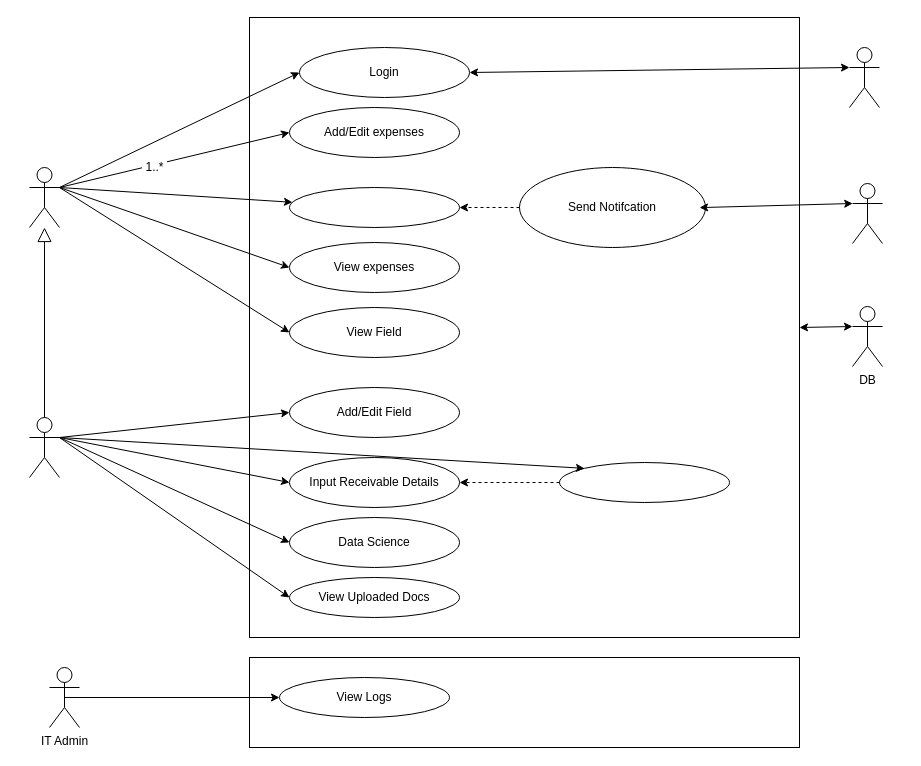
Some shapes in this 921 by 766 pixel diagram are drawn without their labels. Each missing label, with the centre of its shape:
ID provider: the point at 864,77
Mail Gateway: the point at 867,213
Owner: the point at 44,447
Team lead: the point at 44,197
Upload Receipt: the point at 374,207
Upload Receivable Docs: the point at 644,482
